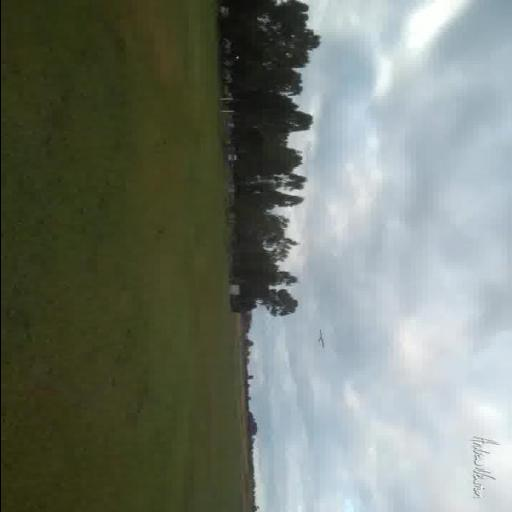uav: (315, 326, 327, 349)
